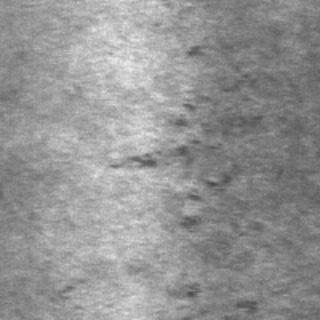rolled pit: (157, 50, 259, 286)
